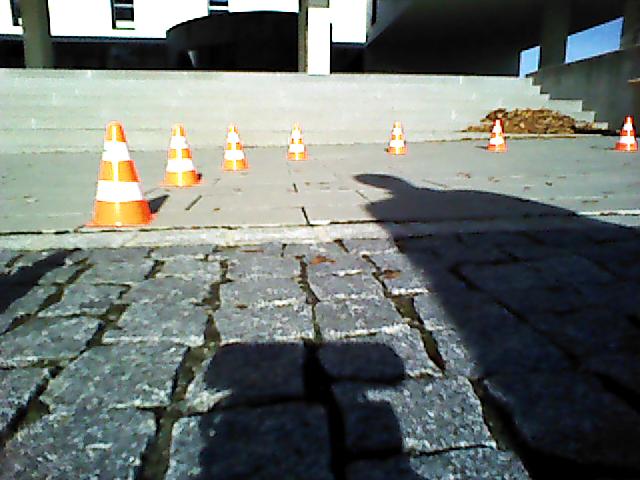orangeconesmall: (87, 123, 155, 227), (157, 124, 204, 187), (221, 125, 248, 170), (614, 116, 636, 153), (487, 120, 509, 154), (288, 124, 308, 161), (386, 123, 407, 156)
